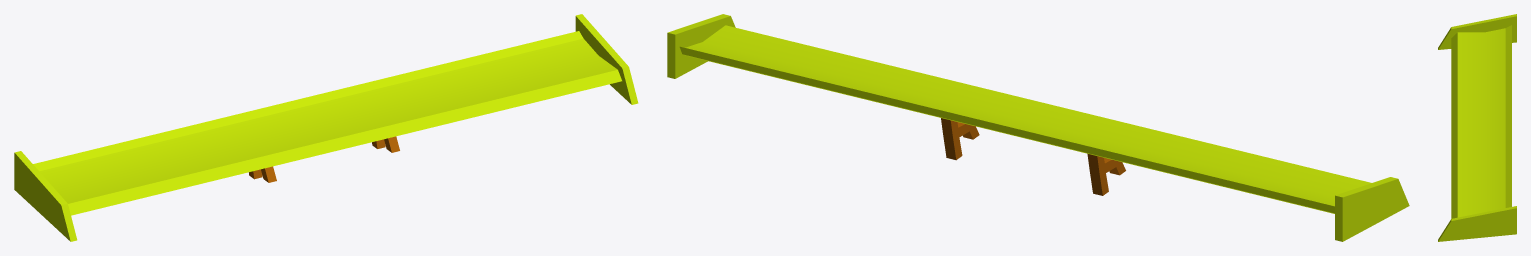
File: Spoiler07_ColorCoded.fbx
3 renders of one model, left to right at view 1: azimuth 30°, elevation 25°; view 2: azimuth 150°, elevation 25°; view 3: azimuth 270°, elevation 25°, orthographic. The views are drawn at different scales.
Parts seen in each view (by area): view 1: Spoiler07; view 2: Spoiler07; view 3: Spoiler07.
Boxes of the visible parts, x1,y1,x2,y2 form: Spoiler07: [14, 14, 638, 241]; Spoiler07: [667, 14, 1409, 241]; Spoiler07: [1438, 14, 1516, 241].
Size of the model in its own units: 45.41 by 7.8 by 4.9.
